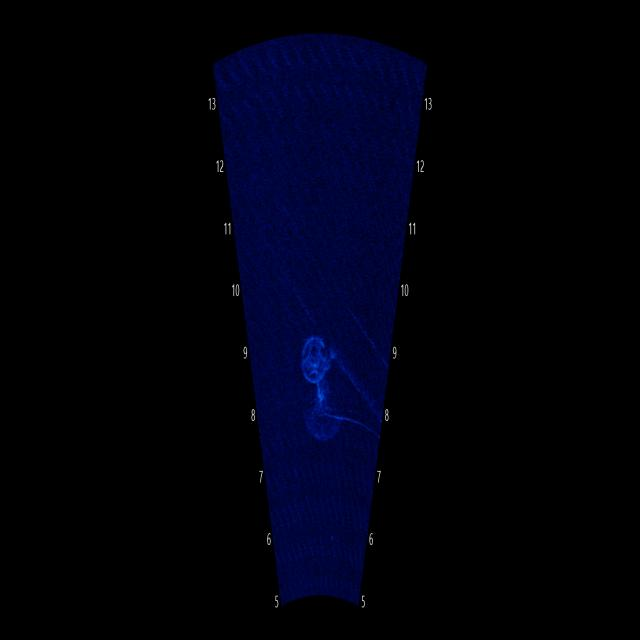circle: (293, 311, 339, 389)
